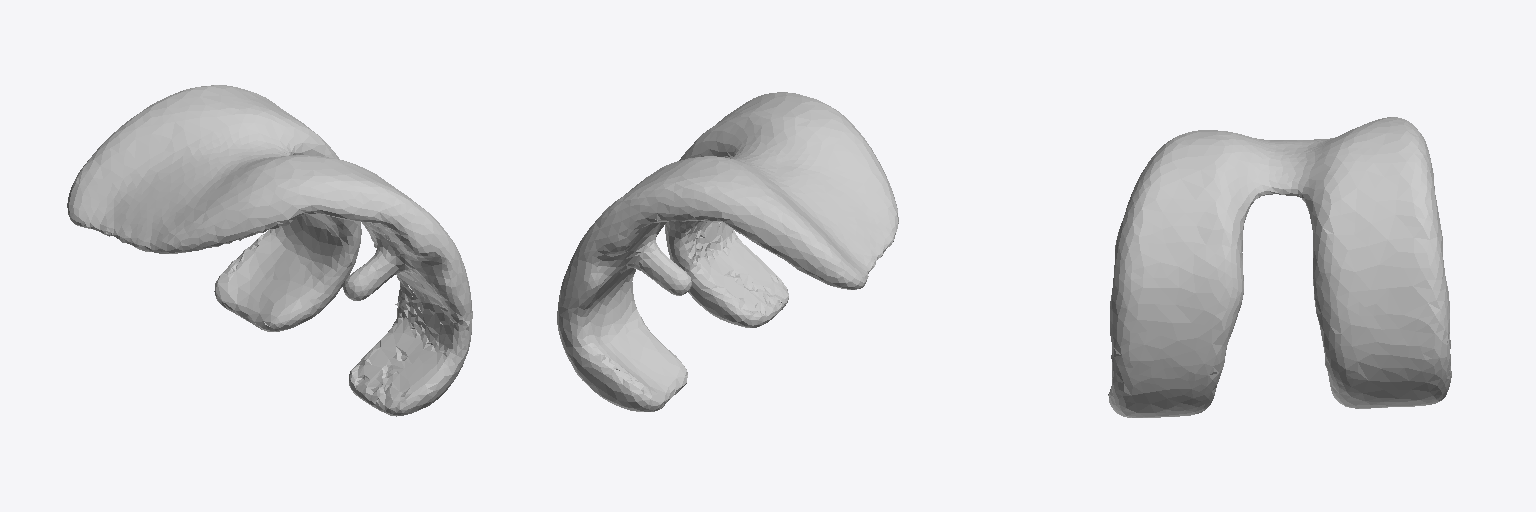
File: ProtesiSopraSistemata.obj
3 renders of one model, left to right at view 1: azimuth 30°, elevation 25°; view 2: azimuth 150°, elevation 25°; view 3: azimuth 270°, elevation 25°, orthographic.
Visible parts, largest first — view 1: ProtesiSopraNonSistemata; view 2: ProtesiSopraNonSistemata; view 3: ProtesiSopraNonSistemata.
Part boxes in pixels (bbox=[...]): ProtesiSopraNonSistemata: bbox=[67, 85, 472, 416]; ProtesiSopraNonSistemata: bbox=[557, 92, 898, 411]; ProtesiSopraNonSistemata: bbox=[1108, 117, 1451, 417].
Size of the model in its own units: 26.86 by 22.14 by 28.44.